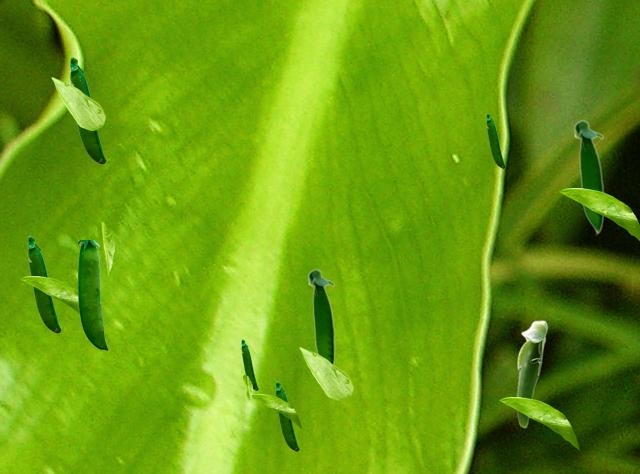pea: (69, 56, 105, 163), (573, 119, 603, 235), (516, 320, 547, 427), (78, 240, 107, 351), (27, 235, 60, 332), (307, 268, 334, 364), (275, 381, 298, 450), (486, 113, 504, 167), (241, 339, 257, 389)
